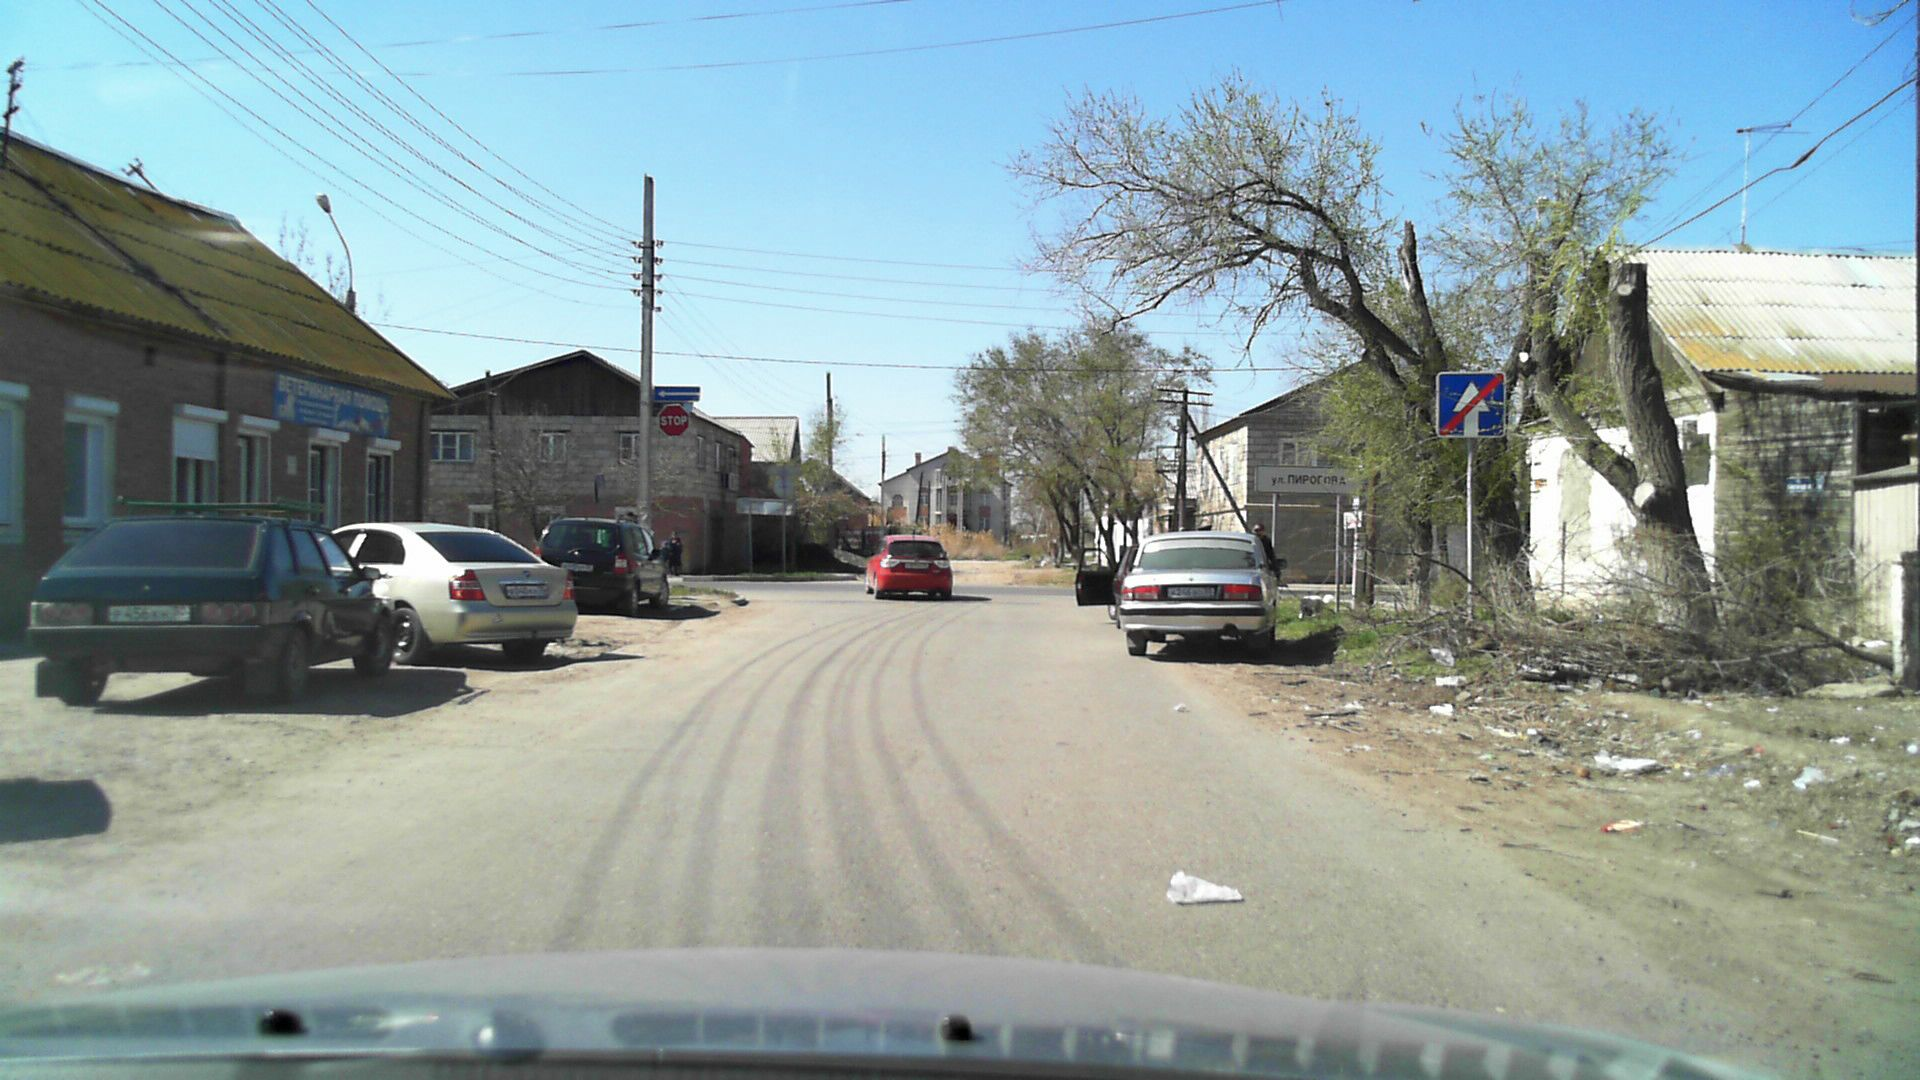One-Way Traffic: (654, 386, 702, 401)
